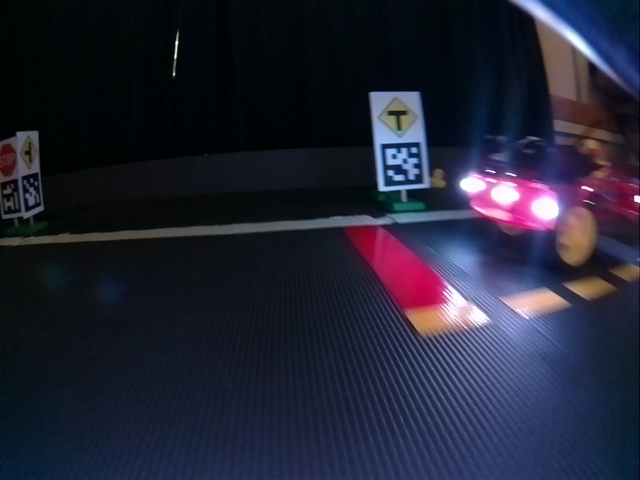Duckie: (431, 170, 448, 184)
Duckiebot: (468, 143, 633, 267)
Intersection sign: (378, 92, 424, 139), (20, 134, 39, 171)
QR code: (378, 140, 424, 188), (21, 172, 42, 213), (2, 181, 18, 213)
Stop sign: (1, 140, 15, 178)
